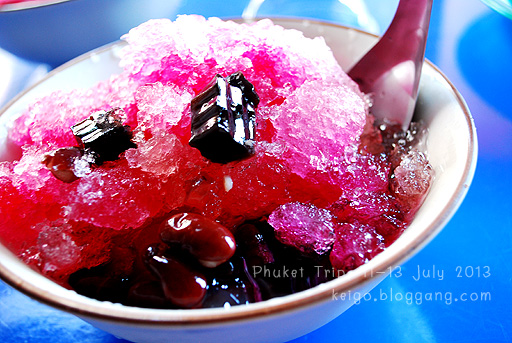O-eo: (3, 15, 467, 314)
